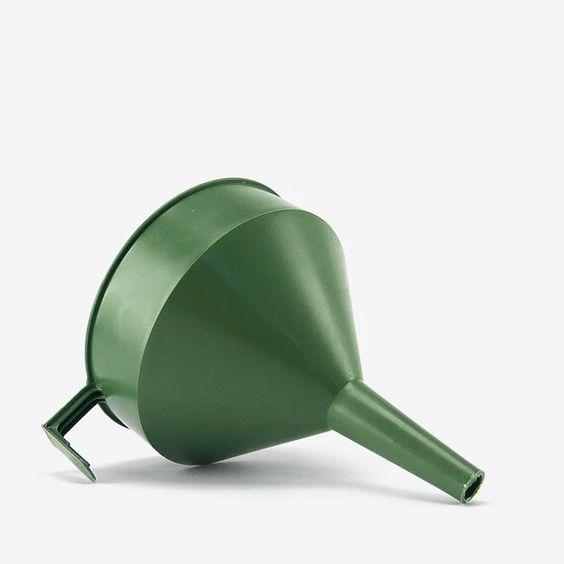HDPE: (0, 81, 564, 564)
